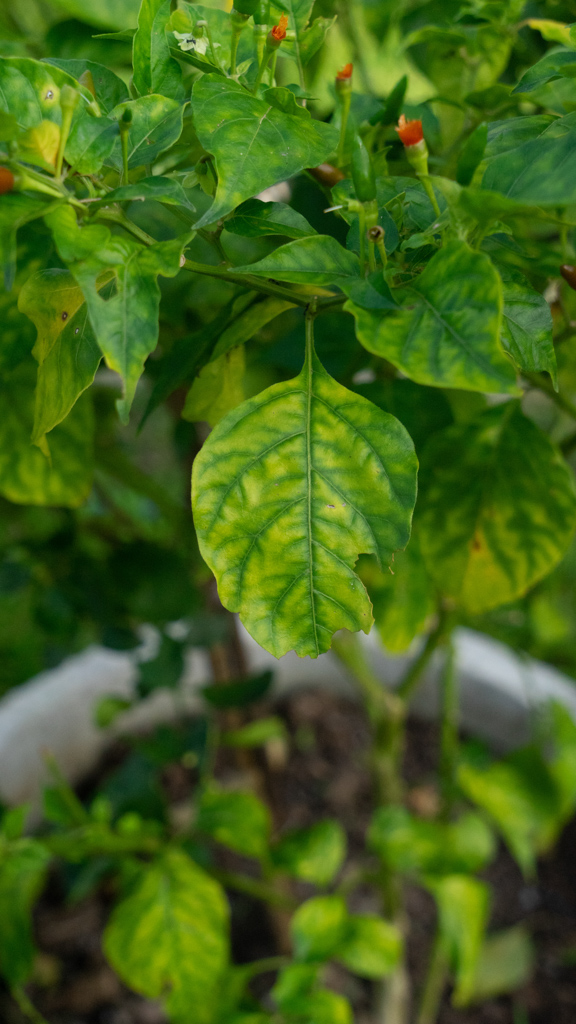frog-eye leafspot: (457, 524, 497, 558), (155, 975, 176, 994), (40, 85, 57, 104), (59, 307, 71, 323)
